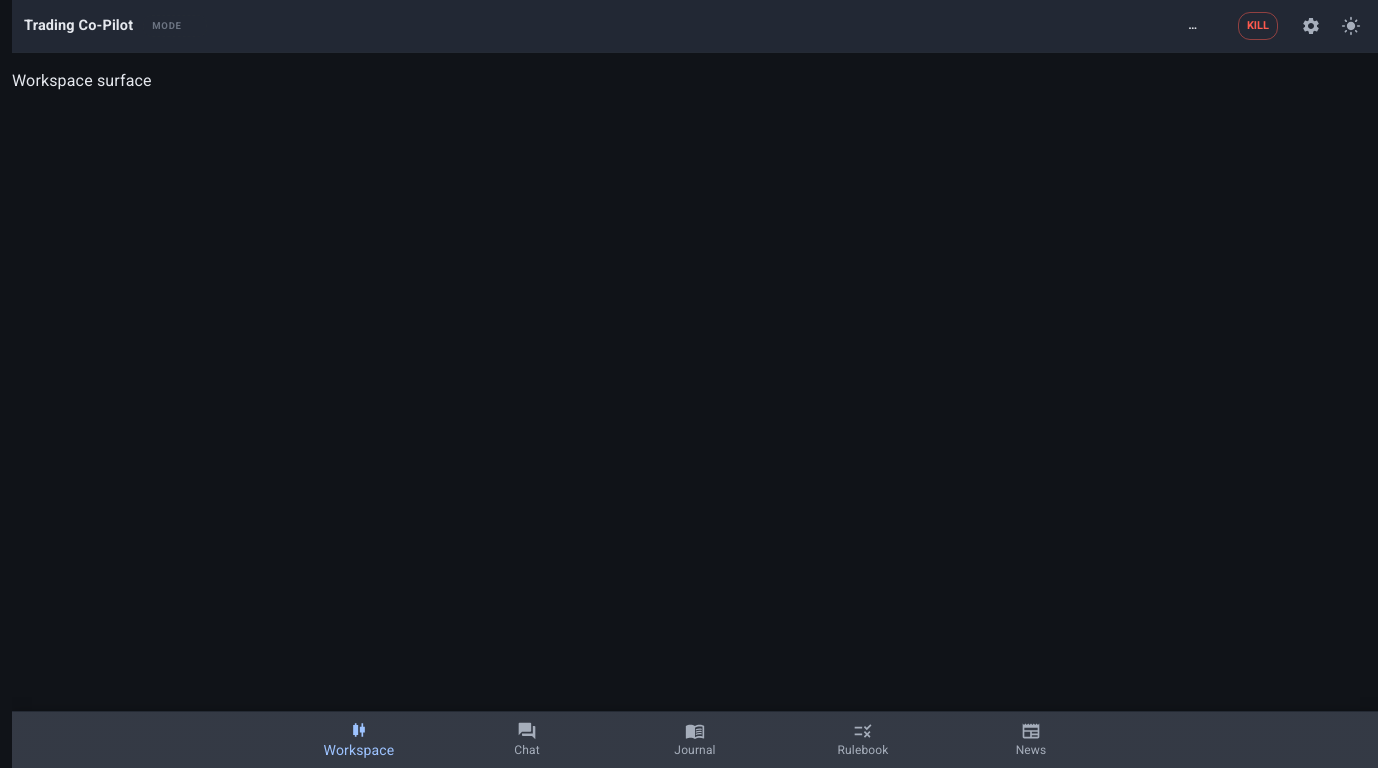
Test: adaptive navigation › navigates to a destination when clicked at compact
This screenshot has width=1378, height=768.
Expected: the text "Workspace surface" is shown, [12,71,152,90]
Click the link "Rulebook" at (863, 739), box [838,721,888,757]
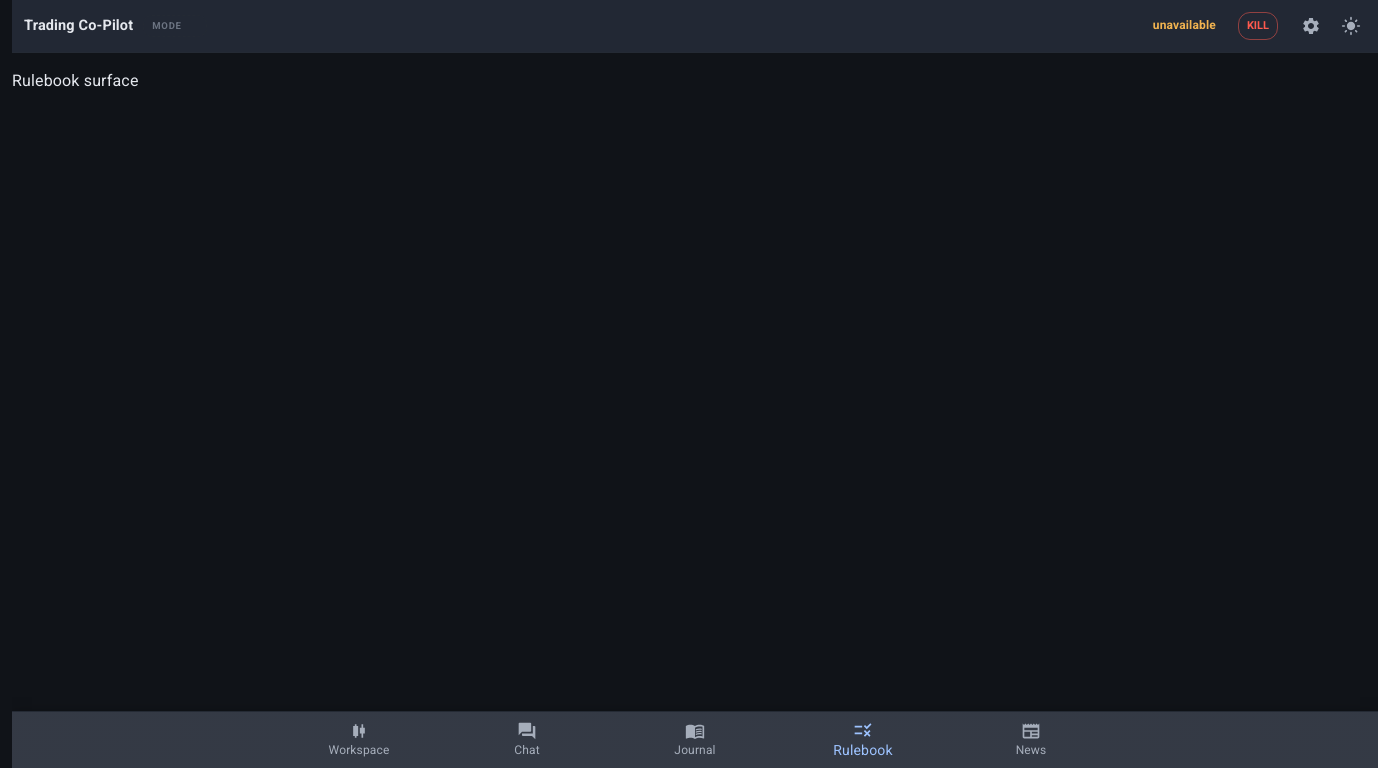
Expected: the text "Rulebook surface" is shown, [12,71,138,90]
